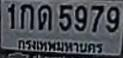1: (7, 3, 14, 28)
5: (59, 4, 72, 30)
7: (90, 4, 103, 31)
9: (105, 5, 119, 31), (74, 4, 86, 30)
A01: (20, 3, 33, 29)
A20: (37, 4, 51, 29)
BKK: (16, 37, 104, 56)
